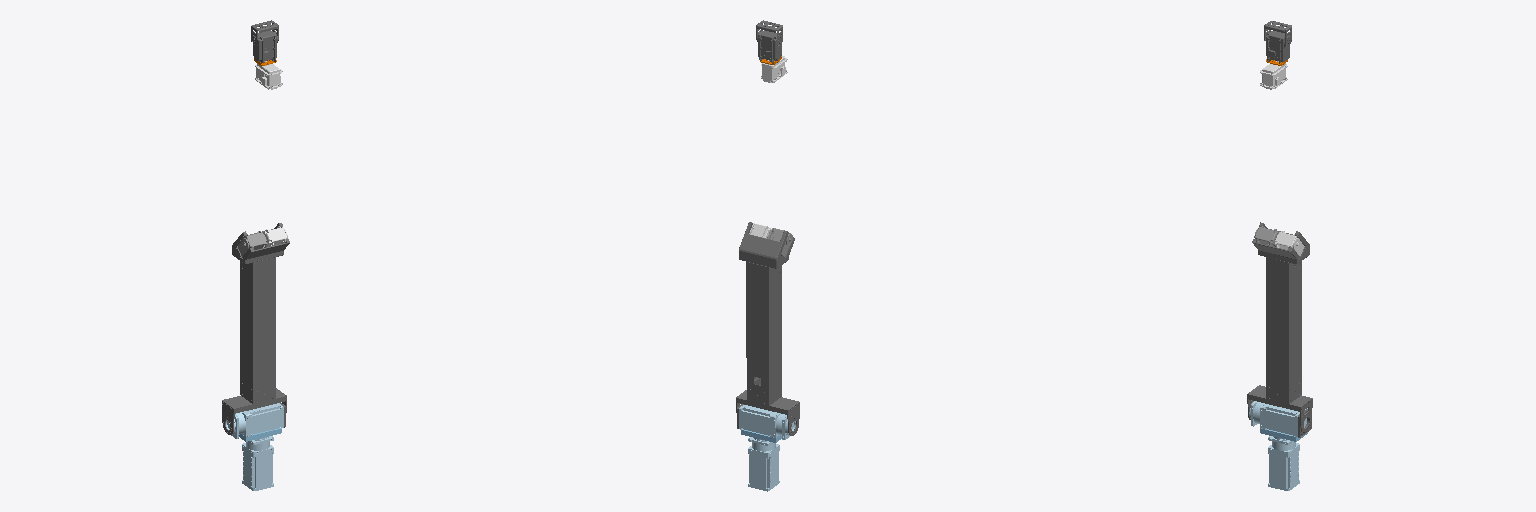
URDF robot description (timon):
<?xml version="1.0" encoding="utf-8" ?>
<!-- =================================================================================== -->
<!-- |    This document was autogenerated by xacro from [local-path]/timonhm_ws/src/manipulator_description/robots/timon_arm_hand.urdf.xacro | -->
<!-- |    EDITING THIS FILE BY HAND IS NOT RECOMMENDED                                 | -->
<!-- =================================================================================== -->
<robot name="timon">
    <link name="base_link" />
    <link name="timon_link0">
        <visual>
            <origin rpy="1.571 0 0" xyz="0 0 0" />
            <geometry>
                <mesh filename="package://manipulator_description/meshes/visual/link1.dae" />
            </geometry>
        </visual>
        <collision>
            <origin rpy="1.571 0 0" xyz="0 0 0" />
            <geometry>
                <mesh filename="package://manipulator_description/meshes/visual/link1.dae" />
            </geometry>
        </collision>
        
<inertial>
            <origin rpy="1.571 0 0 " xyz="0 0 0" />
            <mass value="0.856" />
            <inertia ixx="1.26094285e-3" ixy="0.00000e+0" ixz="0.00000e+0" iyy="3.79002180e-4" iyz="-5.78993250e-9" izz="1.26040377e-3" />
        </inertial>

    </link>
    <joint name="base_to_arm" type="fixed">
        <origin rpy="0 0 0" xyz="0 0 0" />
        <parent link="base_link" />
        <child link="timon_link0" />
    </joint>
    <link name="timon_link1">
        <visual>
            <origin rpy="-3.14 0 0" xyz="0 0 0" />
            <geometry>
                <mesh filename="package://manipulator_description/meshes/visual/link2.dae" />
            </geometry>
        </visual>
        <collision>
            <origin rpy="-3.14 0 0" xyz="0 0 0" />
            <geometry>
                <mesh filename="package://manipulator_description/meshes/visual/link2.dae" />
            </geometry>
        </collision>
        
<inertial>
            <origin rpy="-3.14 0 0 " xyz="0 0 0" />
            <mass value="0.15040432" />
            <inertia ixx="3.45063e+1" ixy="0.00000e+0" ixz="0.00000e+0" iyy="1.07762e+2" iyz="0.00000e+0" izz="1.38659e+2" />
        </inertial>

    </link>
    <joint name="timon_joint1" type="continuous">
        <safety_controller k_position="100.0" k_velocity="40.0" />
        <origin rpy="3.14 0 0" xyz="0 0 0.036" />
        <parent link="timon_link0" />
        <child link="timon_link1" />
        <axis rpy="0 0 0" xyz="0 0 1" />
    </joint>
    <link name="timon_link2">
        <visual>
            <origin rpy="1.571 0 0" xyz="0 0 0" />
            <geometry>
                <mesh filename="package://manipulator_description/meshes/visual/link3.dae" />
            </geometry>
        </visual>
        <collision>
            <origin rpy="1.571 0 0" xyz="0 0 0" />
            <geometry>
                <mesh filename="package://manipulator_description/meshes/visual/link3.dae" />
            </geometry>
        </collision>
        
<inertial>
            <origin rpy="1.571 0 0 " xyz="0 0 0" />
            <mass value="0.856" />
            <inertia ixx="1.26094285e-3" ixy="0.00000e+0" ixz="0.00000e+0" iyy="3.79002180e-4" iyz="-5.78993250e-9" izz="1.26040377e-3" />
        </inertial>

    </link>
    <joint name="timon_joint2" type="fixed">
        <origin rpy="-1.571 1.571 1.571" xyz="-0.04 0.0 -0.039" />
        <parent link="timon_link1" />
        <child link="timon_link2" />
    </joint>
    <link name="timon_link3">
        <visual>
            <origin rpy="1.571 0 0" xyz="0 0 0" />
            <geometry>
                <mesh filename="package://manipulator_description/meshes/visual/link4.dae" />
            </geometry>
        </visual>
        <collision>
            <origin rpy="1.571 0 0" xyz="0 0 0" />
            <geometry>
                <mesh filename="package://manipulator_description/meshes/visual/link4.dae" />
            </geometry>
        </collision>
        
<inertial>
            <origin rpy="1.571 0 0 " xyz="0 0 0" />
            <mass value="0.03239855" />
            <inertia ixx="9.57551961e-6" ixy="-1.52519365e-14" ixz="7.17291197e-16" iyy="9.41926366e-6" iyz="1.37735170e-11" izz="1.88295847e-5" />
        </inertial>

    </link>
    <joint name="timon_joint3" type="fixed">
        <origin rpy="1.571 0.0 0.0" xyz="0.0 0.0 -0.093" />
        <parent link="timon_link2" />
        <child link="timon_link3" />
    </joint>
    <link name="timon_link4">
        <visual>
            <origin rpy="0 1.571 0" xyz="-0.0292 0.2289 -0.04" />
            <geometry>
                <mesh filename="package://manipulator_description/meshes/visual/link5.dae" />
            </geometry>
        </visual>
        <collision>
            <origin rpy="0 1.571 0" xyz="-0.0292 0.2289 -0.04" />
            <geometry>
                <mesh filename="package://manipulator_description/meshes/visual/link5.dae" />
            </geometry>
        </collision>
        
<inertial>
            <origin rpy="0 1.571 0 " xyz="-0.0292 0.2289 -0.04" />
            <mass value="1.09212028" />
            <inertia ixx="2.47891806e-2" ixy="-5.41904580e-4" ixz="-2.41956050e-7" iyy="1.48343837e-3" iyz="-8.20873087e-6" izz="2.53662704e-2" />
        </inertial>

    </link>
    <joint name="timon_joint4" type="revolute">
        <safety_controller k_position="100.0" k_velocity="40.0" soft_lower_limit="-1.77" soft_upper_limit="1.77" />
        <origin rpy="0 -1.571 -1.571" xyz="-0.0008 0.093 0.001" />
        <parent link="timon_link3" />
        <child link="timon_link4" />
        <axis xyz="0 0 1" />
        <limit effort="1000.0" lower="-1.77" upper="1.77" velocity="0.5" />
    </joint>
    <link name="timon_link5">
        <visual>
            <origin rpy="0 0 -0.75" xyz="0.0 0.0 0.0" />
            <geometry>
                <mesh filename="package://manipulator_description/meshes/visual/link6.dae" />
            </geometry>
        </visual>
        <collision>
            <origin rpy="0 0 -0.75" xyz="0.0 0.0 0.0" />
            <geometry>
                <mesh filename="package://manipulator_description/meshes/visual/link6.dae" />
            </geometry>
        </collision>
        
<inertial>
            <origin rpy="0 0 -0.75 " xyz="0.0 0.0 0.0" />
            <mass value="0.16505359" />
            <inertia ixx="7.89080915e-5" ixy="-3.13361612e-9" ixz="4.40720922e-9" iyy="4.40037283e-5" iyz="-2.02636752e-6" izz="6.23905424e-5" />
        </inertial>

    </link>
    <joint name="timon_joint5" type="fixed">
        <origin rpy="0 0 0" xyz="0.03 0.451 -0.015" />
        <parent link="timon_link4" />
        <child link="timon_link5" />
    </joint>
    <link name="timon_link6">
        <visual>
            <origin rpy="0 0 0.75" xyz="0.0 0.0 0.0" />
            <geometry>
                <mesh filename="package://manipulator_description/meshes/visual/link7.dae" />
            </geometry>
        </visual>
        <collision>
            <origin rpy="0 0 0.75" xyz="0.0 0.0 0.0" />
            <geometry>
                <mesh filename="package://manipulator_description/meshes/visual/link7.dae" />
            </geometry>
        </collision>
        
<inertial>
            <origin rpy="0 0 0.75 " xyz="0.0 0.0 0.0" />
            <mass value="0.16499216" />
            <inertia ixx="7.88952550e-5" ixy="-3.13065901e-9" ixz="4.40693303e-9" iyy="4.39861799e-5" iyz="-2.02737764e-6" izz="6.23603662e-5" />
        </inertial>

    </link>
    <joint name="timon_joint6" type="fixed">
        <origin rpy="0 3.14 0" xyz="0.0 0.0 -0.05" />
        <parent link="timon_link5" />
        <child link="timon_link6" />
    </joint>
    <link name="timon_link7">
        <visual>
            <origin rpy="0.0 1.571 0.0" xyz="-0.01 0.015 0.0" />
            <geometry>
                <mesh filename="package://manipulator_description/meshes/visual/link8.dae" />
            </geometry>
        </visual>
        <collision>
            <origin rpy="0.0 1.571 0.0" xyz="-0.01 0.015 0.0" />
            <geometry>
                <mesh filename="package://manipulator_description/meshes/visual/link8.dae" />
            </geometry>
        </collision>
        
<inertial>
            <origin rpy="0.0 1.571 0.0" xyz="-0.01 0.015 0.0" />
            <mass value="0.58301843" />
            <inertia ixx="7.66412604e-3" ixy="9.16805313e-10" ixz="2.16130814e-14" iyy="5.98440184e-4" iyz="4.07885374e-6" izz="7.70339943e-3" />
        </inertial>

    </link>
    <joint name="timon_joint7" type="revolute">
        <safety_controller k_position="100.0" k_velocity="40.0" soft_lower_limit="-0.95" soft_upper_limit="2.36" />
        <origin rpy="0.0 0.0 0.0" xyz="0.0 0.001 -0.0375" />
        <parent link="timon_link6" />
        <child link="timon_link7" />
        <axis xyz="0 0 1" />
        <limit effort="1000.0" lower="-0.95" upper="2.36" velocity="0.5" />
    </joint>
    <link name="timon_link8">
        <visual>
            <origin rpy="0.0 0.0 0.0" xyz="0.0 0.0 0.0" />
            <geometry>
                <mesh filename="package://manipulator_description/meshes/visual/link9.dae" />
            </geometry>
        </visual>
        <collision>
            <origin rpy="0.0 0.0 0.0" xyz="0.0 0.0 0.0" />
            <geometry>
                <mesh filename="package://manipulator_description/meshes/visual/link9.dae" />
            </geometry>
        </collision>
        
<inertial>
            <origin rpy="0.0 0.0 0.0" xyz="0.0 0.0 0.0" />
            <mass value="0.16499216" />
            <inertia ixx="7.88952550e-5" ixy="-3.13065901e-9" ixz="4.40693303e-9" iyy="4.39861799e-5" iyz="-2.02737764e-6" izz="6.23603662e-5" />
        </inertial>

    </link>
    <joint name="timon_joint8" type="fixed">
        <origin rpy="0 -1.571 -1.571" xyz="0 0.41 0.013" />
        <parent link="timon_link7" />
        <child link="timon_link8" />
    </joint>
    <link name="timon_link9">
        <visual>
            <origin rpy="1.571 0.0 0.0" xyz="0.0 0.0 0.0" />
            <geometry>
                <mesh filename="package://manipulator_description/meshes/visual/link10.dae" />
            </geometry>
        </visual>
        <collision>
            <origin rpy="1.571 0.0 0.0" xyz="0.0 0.0 0.0" />
            <geometry>
                <mesh filename="package://manipulator_description/meshes/visual/link10.dae" />
            </geometry>
        </collision>
        
<inertial>
            <origin rpy="1.571 0.0 0.0" xyz="0.0 0.0 0.0" />
            <mass value="0.007" />
            <inertia ixx="1.48840827e-6" ixy="2.49592487e-8" ixz="5.30644674e-12" iyy="2.08108627e-6" iyz="2.38181240e-14" izz="6.88193128e-7" />
        </inertial>

    </link>
    <joint name="timon_joint9" type="continuous">
        <origin rpy="0 0 1.571" xyz="0 0 0.025" />
        <parent link="timon_link8" />
        <child link="timon_link9" />
        <axis rpy="0 0 0" xyz="0 0 1" />
    </joint>
    <!-- <link name="${arm_id}_link11">
      <visual>
        <origin xyz="0.0225 -0.007 0.0" rpy="0.0 0.0 0.0" />
        <geometry>
          <mesh filename="package://manipulator_description/meshes/visual/link11.dae"/>
        </geometry>
      </visual>
      <collision>
        <origin xyz="0.0225 -0.007 0.0" rpy="0.0 0.0 0.0" />
        <geometry>
          <mesh filename="package://manipulator_description/meshes/visual/link11.dae"/>
        </geometry>
      </collision>
      
<inertial>
        <origin xyz="0.0225 -0.007 0.0" rpy="0.0 0.0 0.0"/>
        <mass value="0.16499216"/>
        <inertia ixx="7.88952550e-5"  ixy="-3.13065901e-9"  ixz="4.40693303e-9" iyy="4.39861799e-5" iyz="-2.02737764e-6" izz="6.23603662e-5" />
      </inertial>

    </link> 
    <joint name="${arm_id}_joint11" type="fixed">
      <origin rpy="1.5701 0.0 0.0" xyz="0.0 -0.001 0.055"/>
      <parent link="${arm_id}_link10"/>
      <child link="${arm_id}_link11"/>
    </joint>
   

   <link name="${arm_id}_link12">
      <visual>
        <origin xyz="0.0 0.0 0.0" rpy="0.0 1.571 0.0" />
        <geometry>
          <mesh filename="package://manipulator_description/meshes/visual/link12.dae"/>
        </geometry>
      </visual>
      <collision>
        <origin xyz="0.0 0.0 0.0" rpy="0.0 1.571 0.0" />
        <geometry>
          <mesh filename="package://manipulator_description/meshes/visual/link12.dae"/>
        </geometry>
      </collision>
      
<inertial>
        <origin xyz="0.0 0.0 0.0" rpy="0.0 1.571 0.0"/>
        <mass value="0.01873963"/>
        <inertia ixx="4.49588271e-6"  ixy="0.00000000e+0"  ixz="0.00000000e+0" iyy="1.08113872e-5" iyz="0.00000000e+0" izz="1.12040418e-5" />
      </inertial>

    </link> 
    <joint name="${arm_id}_joint12" type="revolute">
      <safety_controller k_position="100.0" k_velocity="40.0" soft_lower_limit="-1.90" soft_upper_limit="1.90"/>
      <origin rpy="0.0 0.0 0.0" xyz="0.0 0.0 0.0"/>
      <parent link="${arm_id}_link11"/>
      <child link="${arm_id}_link12"/>
      <axis xyz="0 0 1"/>
      <limit effort="1000.0" lower="-1.90" upper="1.90" velocity="0.5"/>
    </joint>  -->
    <joint name="timon_hand_joint" type="fixed">
        <parent link="timon_link9" />
        <child link="timon_hand" />
        <origin rpy="1.5701 0.0 0.0" xyz="0.0 -0.001 0.055" />
    </joint>
    <link name="timon_hand">
        <visual>
            <origin rpy="0.0 0.0 0.0" xyz="0.0225 -0.007 0.0" />
            <geometry>
                <mesh filename="package://manipulator_description/meshes/visual/link11.dae" />
            </geometry>
        </visual>
        <collision>
            <origin rpy="0.0 0.0 0.0" xyz="0.0225 -0.007 0.0" />
            <geometry>
                <mesh filename="package://manipulator_description/meshes/visual/link11.dae" />
            </geometry>
        </collision>
        
<inertial>
            <origin rpy="0.0 0.0 0.0" xyz="0.0225 -0.007 0.0" />
            <mass value="0.16499216" />
            <inertia ixx="7.88952550e-5" ixy="-3.13065901e-9" ixz="4.40693303e-9" iyy="4.39861799e-5" iyz="-2.02737764e-6" izz="6.23603662e-5" />
        </inertial>

    </link>
    <link name="timon_hand1">
        <visual>
            <origin rpy="0.0 1.571 0.0" xyz="0.0 0.0 0.0" />
            <geometry>
                <mesh filename="package://manipulator_description/meshes/visual/link12.dae" />
            </geometry>
        </visual>
        <collision>
            <origin rpy="0.0 1.571 0.0" xyz="0.0 0.0 0.0" />
            <geometry>
                <mesh filename="package://manipulator_description/meshes/visual/link12.dae" />
            </geometry>
        </collision>
        
<inertial>
            <origin rpy="0.0 1.571 0.0" xyz="0.0 0.0 0.0" />
            <mass value="0.01873963" />
            <inertia ixx="4.49588271e-6" ixy="0.00000000e+0" ixz="0.00000000e+0" iyy="1.08113872e-5" iyz="0.00000000e+0" izz="1.12040418e-5" />
        </inertial>

    </link>
    <joint name="timon_hand_joint_1" type="revolute">
        <safety_controller k_position="100.0" k_velocity="40.0" soft_lower_limit="-1.90" soft_upper_limit="1.90" />
        <origin rpy="0.0 0.0 0.0" xyz="0.0 0.0 0.0" />
        <parent link="timon_hand" />
        <child link="timon_hand1" />
        <axis xyz="0 0 1" />
        <limit effort="1000.0" lower="-1.90" upper="1.90" velocity="0.5" />
    </joint>
    
<transmission name="trans_timon_joint1">
        <type>transmission_interface/SimpleTransmission</type>
        <joint name="timon_joint1">
            <hardwareInterface>hardware_interface/PositionJointInterface</hardwareInterface>
        </joint>
        <actuator name="timon_joint1_motor">
            <hardwareInterface>hardware_interface/PositionJointInterface</hardwareInterface>
            <mechanicalReduction>1</mechanicalReduction>
        </actuator>
    </transmission>
    <transmission name="trans_timon_joint4">
        <type>transmission_interface/SimpleTransmission</type>
        <joint name="timon_joint4">
            <hardwareInterface>hardware_interface/PositionJointInterface</hardwareInterface>
        </joint>
        <actuator name="timon_joint4_motor">
            <hardwareInterface>hardware_interface/PositionJointInterface</hardwareInterface>
            <mechanicalReduction>1</mechanicalReduction>
        </actuator>
    </transmission>
    <transmission name="trans_timon_joint7">
        <type>transmission_interface/SimpleTransmission</type>
        <joint name="timon_joint7">
            <hardwareInterface>hardware_interface/PositionJointInterface</hardwareInterface>
        </joint>
        <actuator name="timon_joint7_motor">
            <hardwareInterface>hardware_interface/PositionJointInterface</hardwareInterface>
            <mechanicalReduction>1</mechanicalReduction>
        </actuator>
    </transmission>
    <transmission name="trans_timon_joint9">
        <type>transmission_interface/SimpleTransmission</type>
        <joint name="timon_joint9">
            <hardwareInterface>hardware_interface/PositionJointInterface</hardwareInterface>
        </joint>
        <actuator name="timon_joint9_motor">
            <hardwareInterface>hardware_interface/PositionJointInterface</hardwareInterface>
            <mechanicalReduction>1</mechanicalReduction>
        </actuator>
    </transmission>
    <transmission name="trans_timon_hand_joint_1">
        <type>transmission_interface/SimpleTransmission</type>
        <joint name="timon_hand_joint_1">
            <hardwareInterface>hardware_interface/EffortJointInterface</hardwareInterface>
        </joint>
        <actuator name="timon_hand_joint_1_motor">
            <hardwareInterface>hardware_interface/EffortJointInterface</hardwareInterface>
            <mechanicalReduction>1</mechanicalReduction>
        </actuator>
    </transmission>
    <gazebo>
        <plugin name="gazebo_ros_control" filename="libgazebo_ros_control.so">
            <robotNamespace>/</robotNamespace>
        </plugin>
    </gazebo>
</robot>

--- Render facts (derived) ---
The picture shows the robot from 3 angles, left to right: view 1: azimuth 30°, elevation 25°; view 2: azimuth 150°, elevation 25°; view 3: azimuth 330°, elevation 25°; orthographic projection.
Model timon with 13 links and 12 joints (3 revolute, 2 continuous, 7 fixed), rooted at base_link, posed every joint at zero.
Visible links, largest first — view 1: timon_link4, timon_link0, timon_link2, timon_hand, timon_link8; view 2: timon_link4, timon_link0, timon_link2, timon_hand; view 3: timon_link4, timon_link0, timon_link2, timon_hand, timon_link8.
Boxes of the visible links, box(x1,y1,x2,y2) form: timon_link4: box(222, 223, 289, 434); timon_link0: box(242, 436, 273, 490); timon_link2: box(226, 403, 283, 438); timon_hand: box(253, 30, 277, 62); timon_link8: box(255, 61, 282, 89); timon_link4: box(736, 222, 799, 435); timon_link0: box(748, 437, 779, 491); timon_link2: box(739, 405, 795, 439); timon_hand: box(757, 30, 781, 63); timon_link4: box(1247, 222, 1312, 431); timon_link0: box(1268, 436, 1299, 490); timon_link2: box(1249, 401, 1307, 436); timon_hand: box(1266, 31, 1290, 62); timon_link8: box(1260, 61, 1287, 89).
Bounding box of the posed robot: 0.138 × 0.109 × 1.14 m (x, y, z).
Meshes: 12 distinct files referenced, 11 mesh visuals loaded (11 Collada DAE); not drawn: 1 (reference not matched to a file when rendering).
